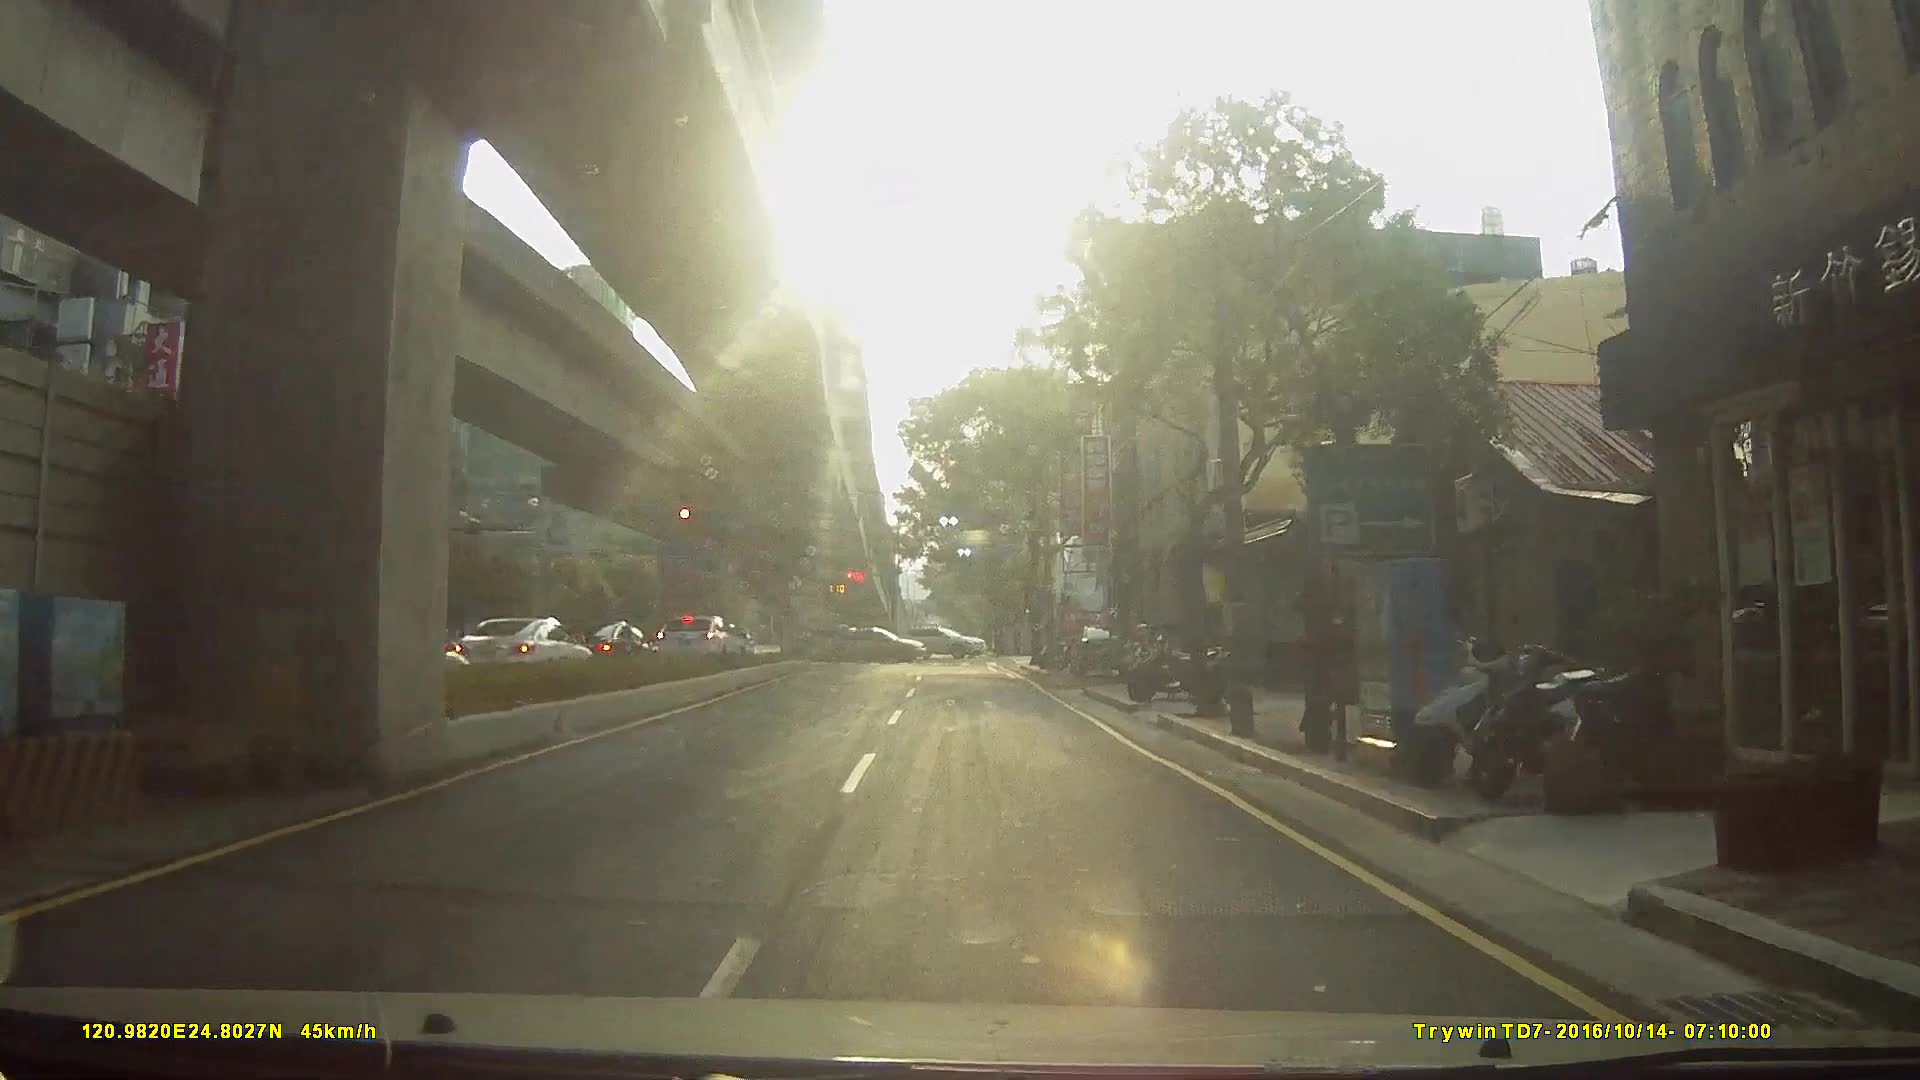vehicle: (440, 616, 589, 684), (550, 620, 658, 676), (649, 615, 748, 667), (828, 625, 934, 663), (1067, 618, 1131, 675), (901, 624, 992, 659), (804, 622, 882, 663)
